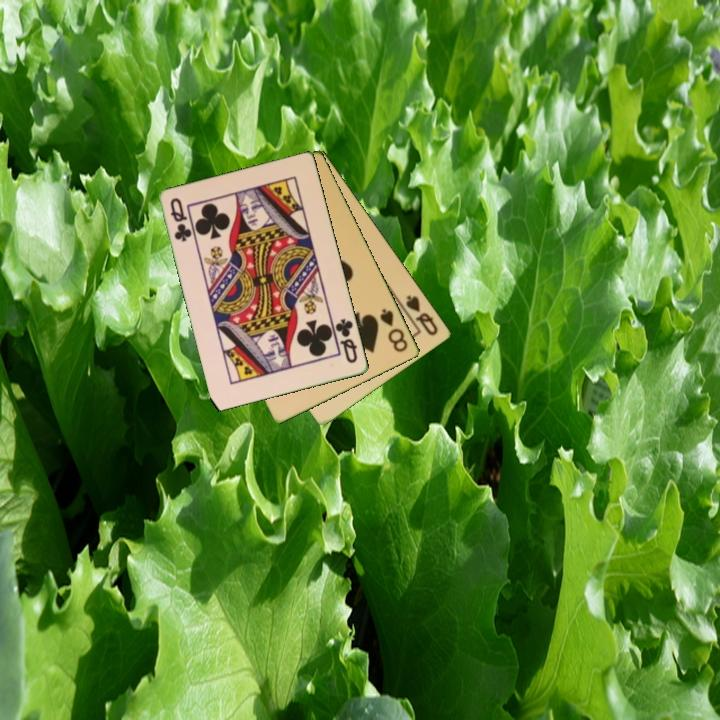8s: (377, 305, 411, 355)
Qc: (332, 315, 361, 366), (167, 194, 195, 245)
Qs: (403, 291, 441, 339)
